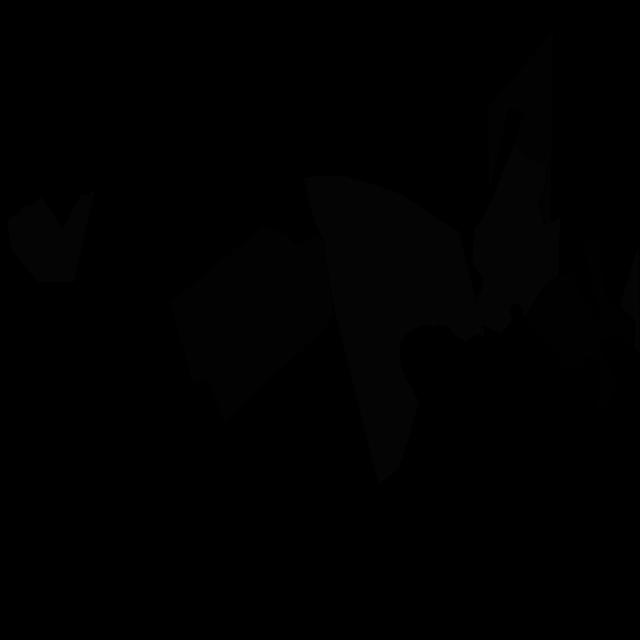cardboard: (170, 225, 334, 422), (488, 31, 553, 225)
rigid_plastic: (525, 237, 631, 416)
soft_plastic: (304, 175, 485, 485), (472, 143, 560, 333), (7, 188, 95, 282), (620, 248, 640, 356)
